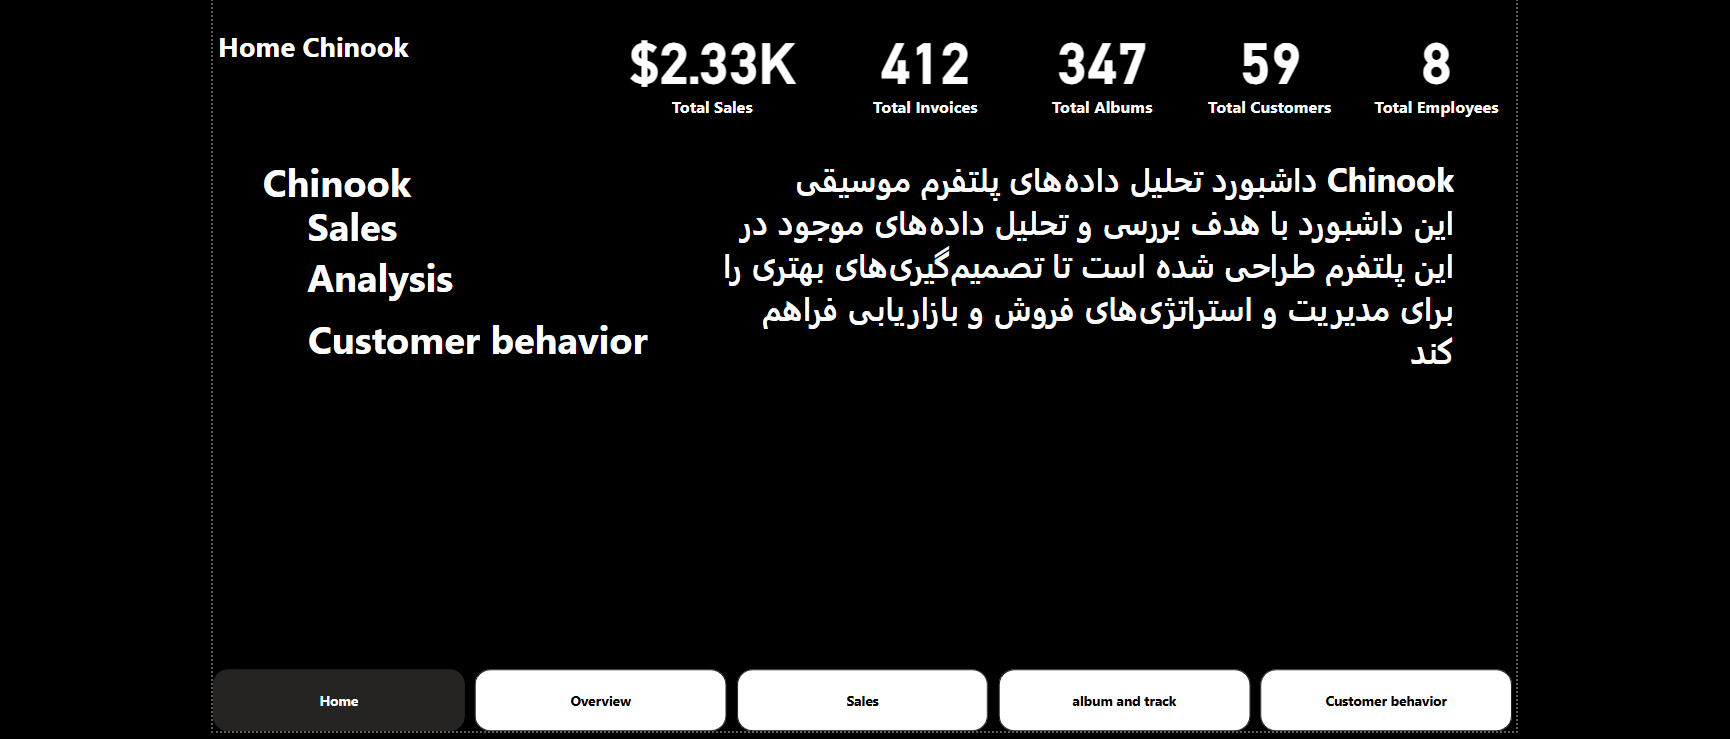

Layout of this report page (visuals, bound fields, positions):
{"tool":"powerbi","page":{"name":"Home","canvas":[1280,720],"ordinal":0},"visuals":[{"type":"lineChart","fields":{"Category":["chinook invoice.InvoiceDate.Variation.Date Hierarchy.Month"],"Y":["chinook invoice.Total Sales"]},"box":[0,175.6,705.3,168.8],"z":0},{"type":"textbox","box":[9.6,12.3,300.5,93.3],"z":1000},{"type":"card","fields":{"Values":["chinook invoice.Total Invoices"]},"box":[779.4,0,179.8,168.8],"z":2000},{"type":"card","fields":{"Values":["chinook track.Average Track Price"]},"box":[959.2,0,167.4,168.8],"z":3000},{"type":"card","fields":{"Values":["chinook customer.Total Customers"]},"box":[1126.6,0,153.7,168.8],"z":4000},{"type":"pieChart","fields":{"Category":["chinook genre.Name"],"Y":["chinook track.Total Tracks"]},"box":[0,344.4,705.3,360.9],"z":5000},{"type":"tableEx","fields":{"Values":["chinook artist.ArtistId","chinook artist.Name","chinook artist.Total Sales per Artist"]},"box":[705.3,175.6,447.3,544.8],"z":6000},{"type":"kpi","fields":{"Indicator":["chinook invoice.Total Sales"],"TrendLine":["chinook invoice.InvoiceDate.Variation.Date Hierarchy.Month"],"Goal":["Sum(chinook invoice.Total)"]},"box":[329.3,0,207.2,149.6],"z":7000},{"type":"kpi","fields":{"Indicator":["chinook track.Total Tracks"],"Goal":["chinook artist.Total Sales per Artist"],"TrendLine":["chinook invoice.Total"]},"box":[546.1,0,218.2,149.6],"z":8000},{"type":"slicer","fields":{"Values":["chinook invoice.InvoiceDate.Variation.Date Hierarchy.Month"]},"box":[1152.7,192.1,127.6,422.6],"z":9000}]}

Visuals, with their boxes on the page's 1280x720 design canvas (x1, y1, x2, y2). These are canvas units, not pixel positions in the 1730x739 screenshot, which may show the page scaled, cropped or inside an application window:
lineChart - chinook invoice.InvoiceDate.Variation.Date Hierarchy.Month x chinook invoice.Total Sales: x1=0, y1=176, x2=705, y2=344
textbox: x1=10, y1=12, x2=310, y2=106
card - chinook invoice.Total Invoices: x1=779, y1=0, x2=959, y2=169
card - chinook track.Average Track Price: x1=959, y1=0, x2=1127, y2=169
card - chinook customer.Total Customers: x1=1127, y1=0, x2=1280, y2=169
pieChart - chinook genre.Name x chinook track.Total Tracks: x1=0, y1=344, x2=705, y2=705
tableEx - chinook artist.ArtistId x chinook artist.Name: x1=705, y1=176, x2=1153, y2=720
kpi - chinook invoice.Total Sales x chinook invoice.InvoiceDate.Variation.Date Hierarchy.Month: x1=329, y1=0, x2=536, y2=150
kpi - chinook track.Total Tracks x chinook artist.Total Sales per Artist: x1=546, y1=0, x2=764, y2=150
slicer - chinook invoice.InvoiceDate.Variation.Date Hierarchy.Month: x1=1153, y1=192, x2=1280, y2=615
